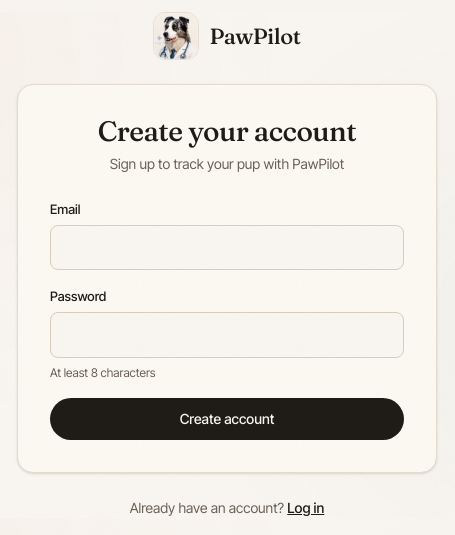
Test: SignupPage › shows 'Password must be at least 8 characters' for short passwords
In the field labelled "Email": {"x": 227, "y": 248} [50,225,404,270], type "a@b.co"
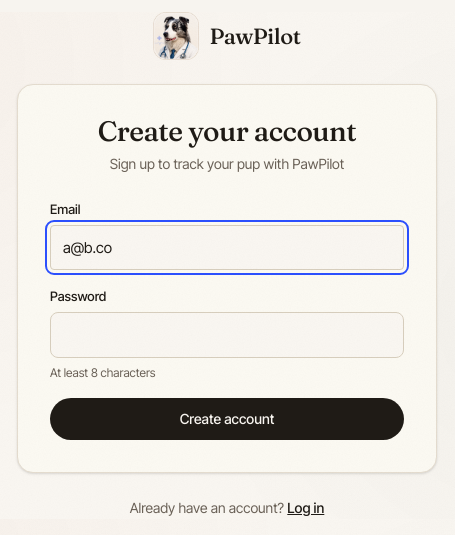
In the password field labelled "Password": {"x": 227, "y": 335} [50,312,404,358], type "short"
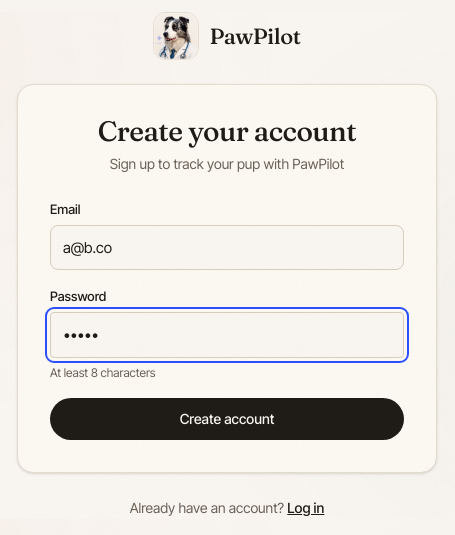
Click the button "Create account": {"x": 227, "y": 419} [50,398,404,440]
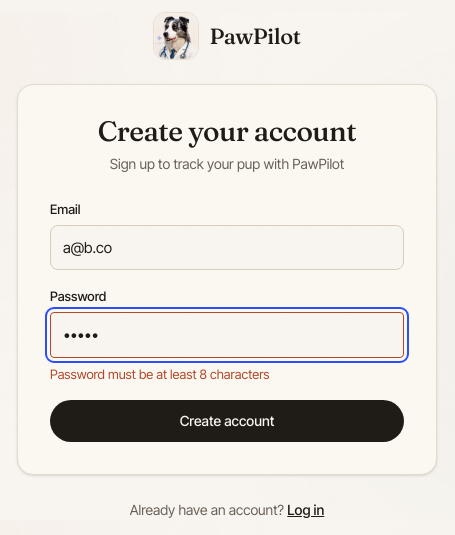
expect the text "Password must be at least 8 characters" is shown: met, box [50,366,270,382]
